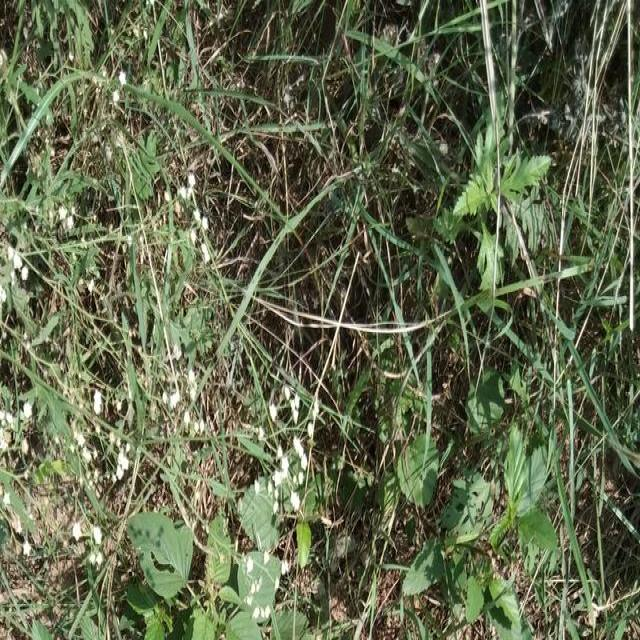weed: (12, 203, 323, 638), (375, 351, 579, 640), (441, 106, 587, 287), (93, 70, 159, 180)
